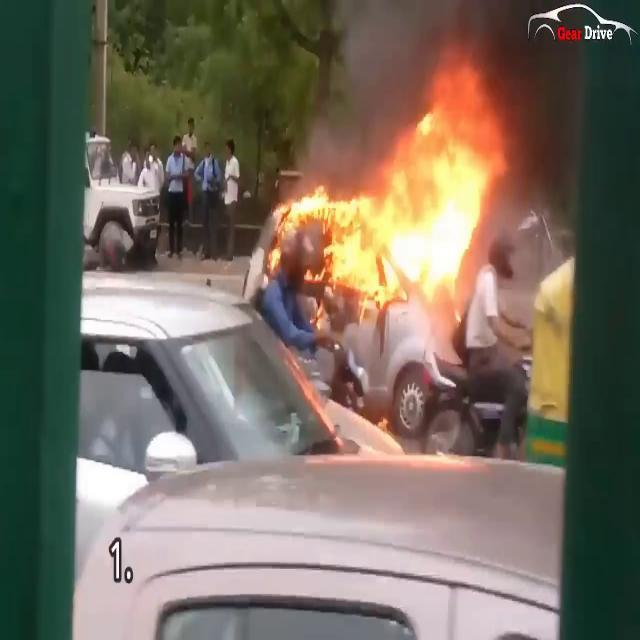Fire: (270, 64, 515, 316)
